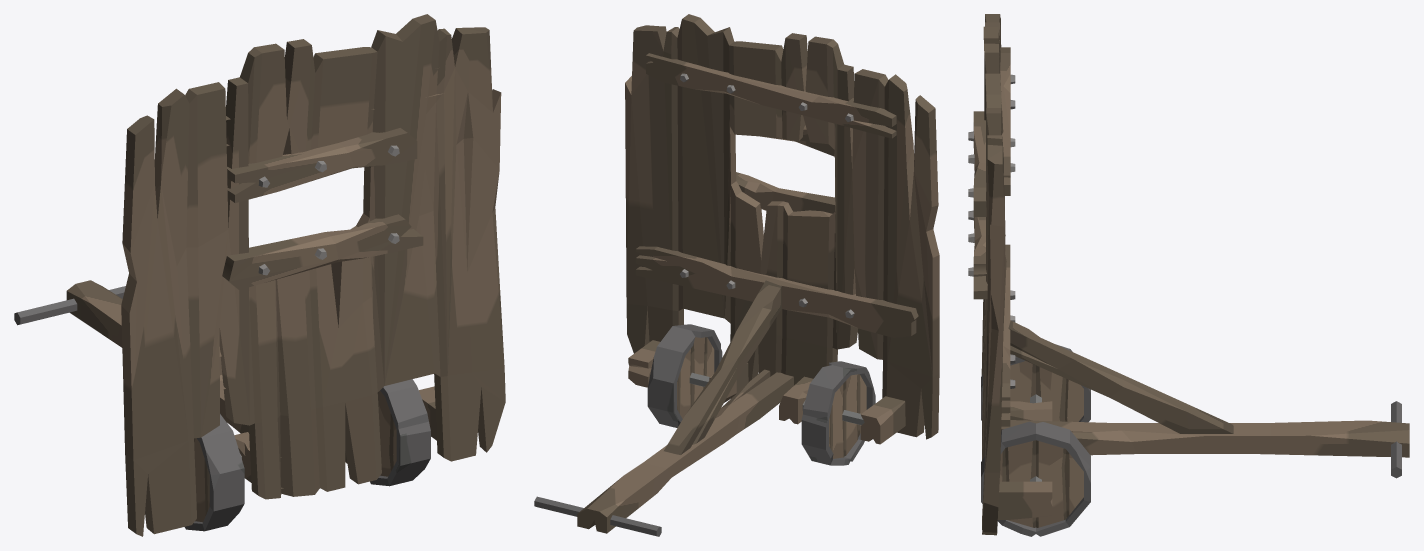
Rendered from crypt_barricade.gltf.
The picture shows the model from 3 angles, left to right: view 1: azimuth 30°, elevation 25°; view 2: azimuth 150°, elevation 25°; view 3: azimuth 270°, elevation 25°; orthographic projection. The views are drawn at different scales.
Visible parts, largest first — view 1: crypt_barricade; view 2: crypt_barricade; view 3: crypt_barricade.
Boxes of the visible parts, <box> form: crypt_barricade: <box>14,14,505,536</box>; crypt_barricade: <box>534,14,939,536</box>; crypt_barricade: <box>968,14,1409,536</box>.
Bounding box in the file's own units: 2.03 × 2.5 × 2.29.
Materials: 1 (1 with a texture image).
